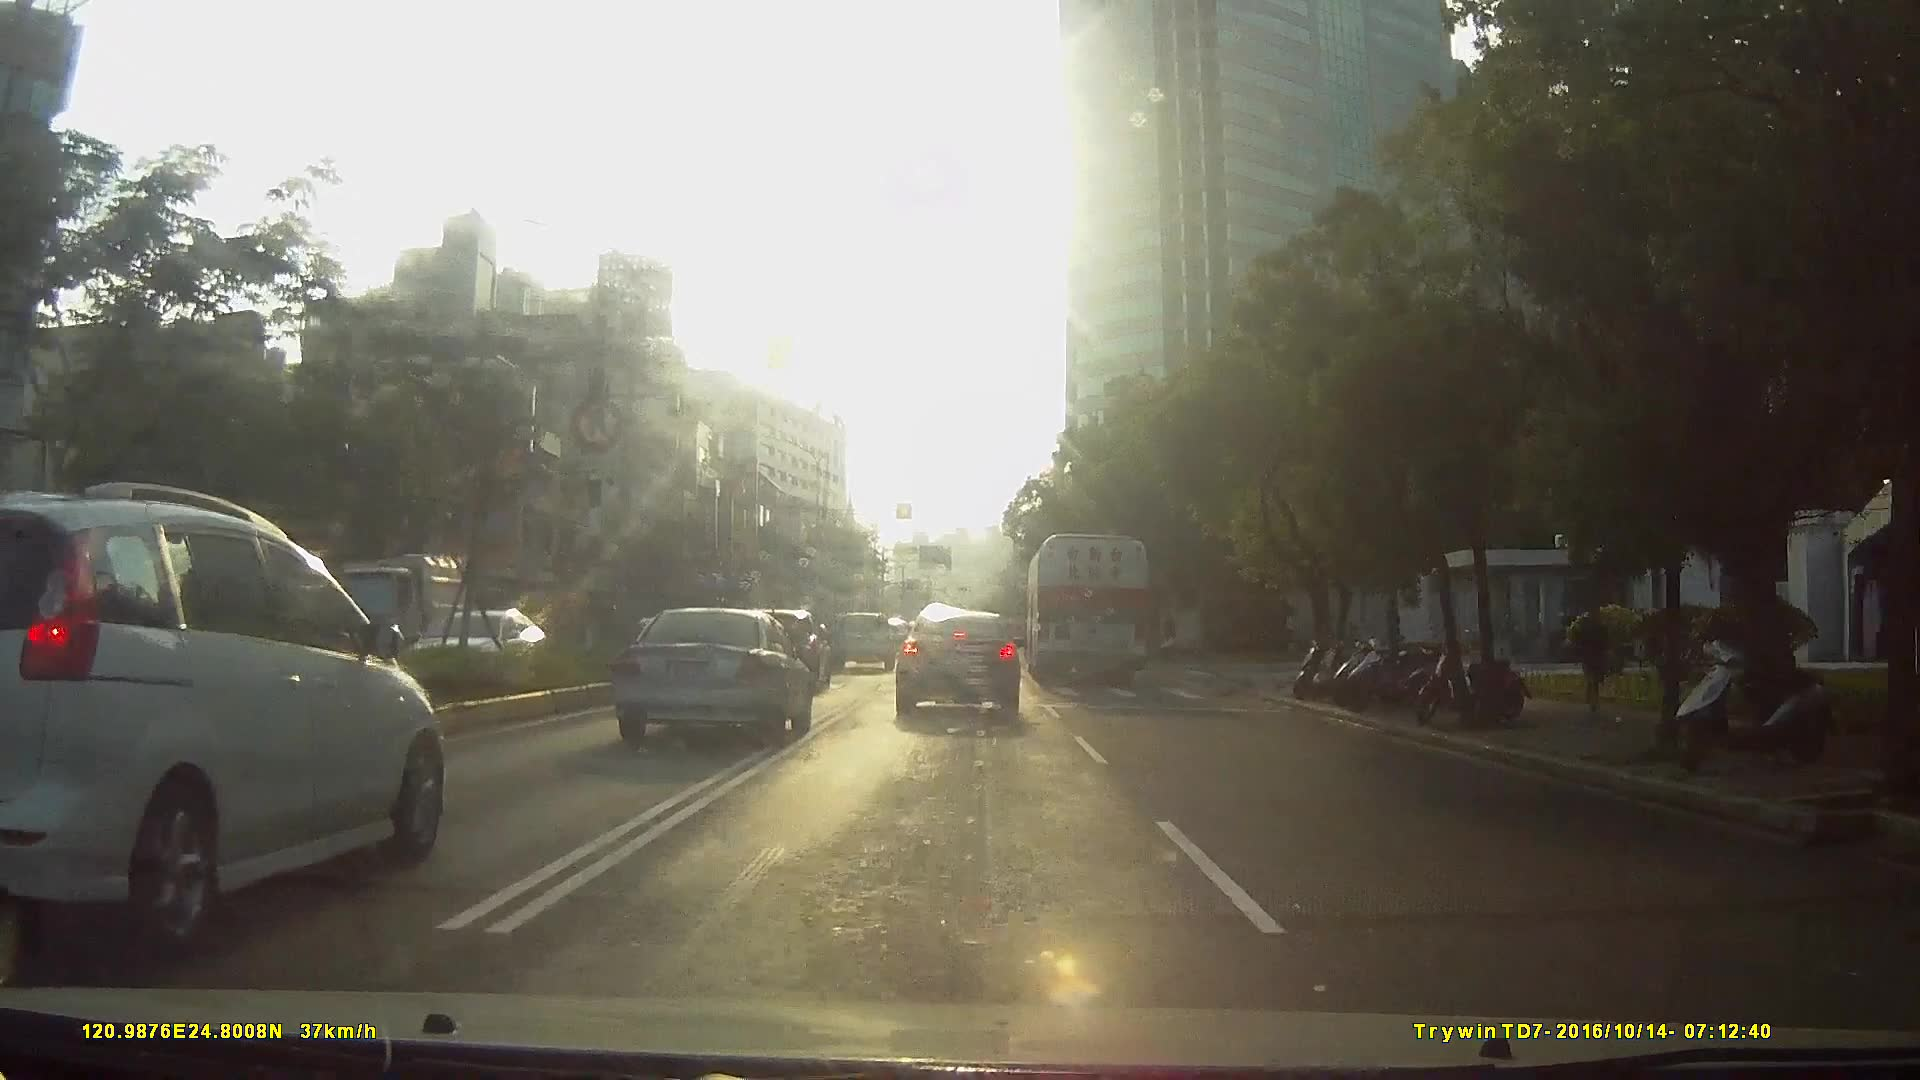pedestrian: (1571, 604, 1622, 716)
vehicle: (1, 470, 464, 970), (250, 556, 684, 868), (602, 602, 808, 746), (1022, 530, 1149, 689), (297, 549, 448, 660), (892, 600, 1022, 720), (419, 606, 551, 691), (825, 609, 893, 672)
